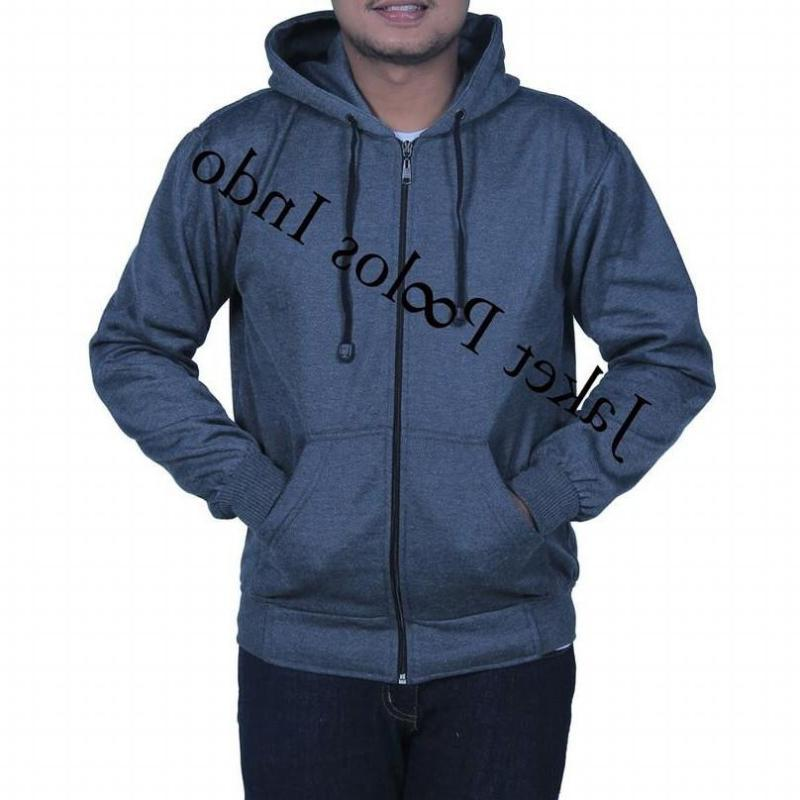sweater: (86, 6, 719, 680)
trousers: (233, 639, 580, 800)
